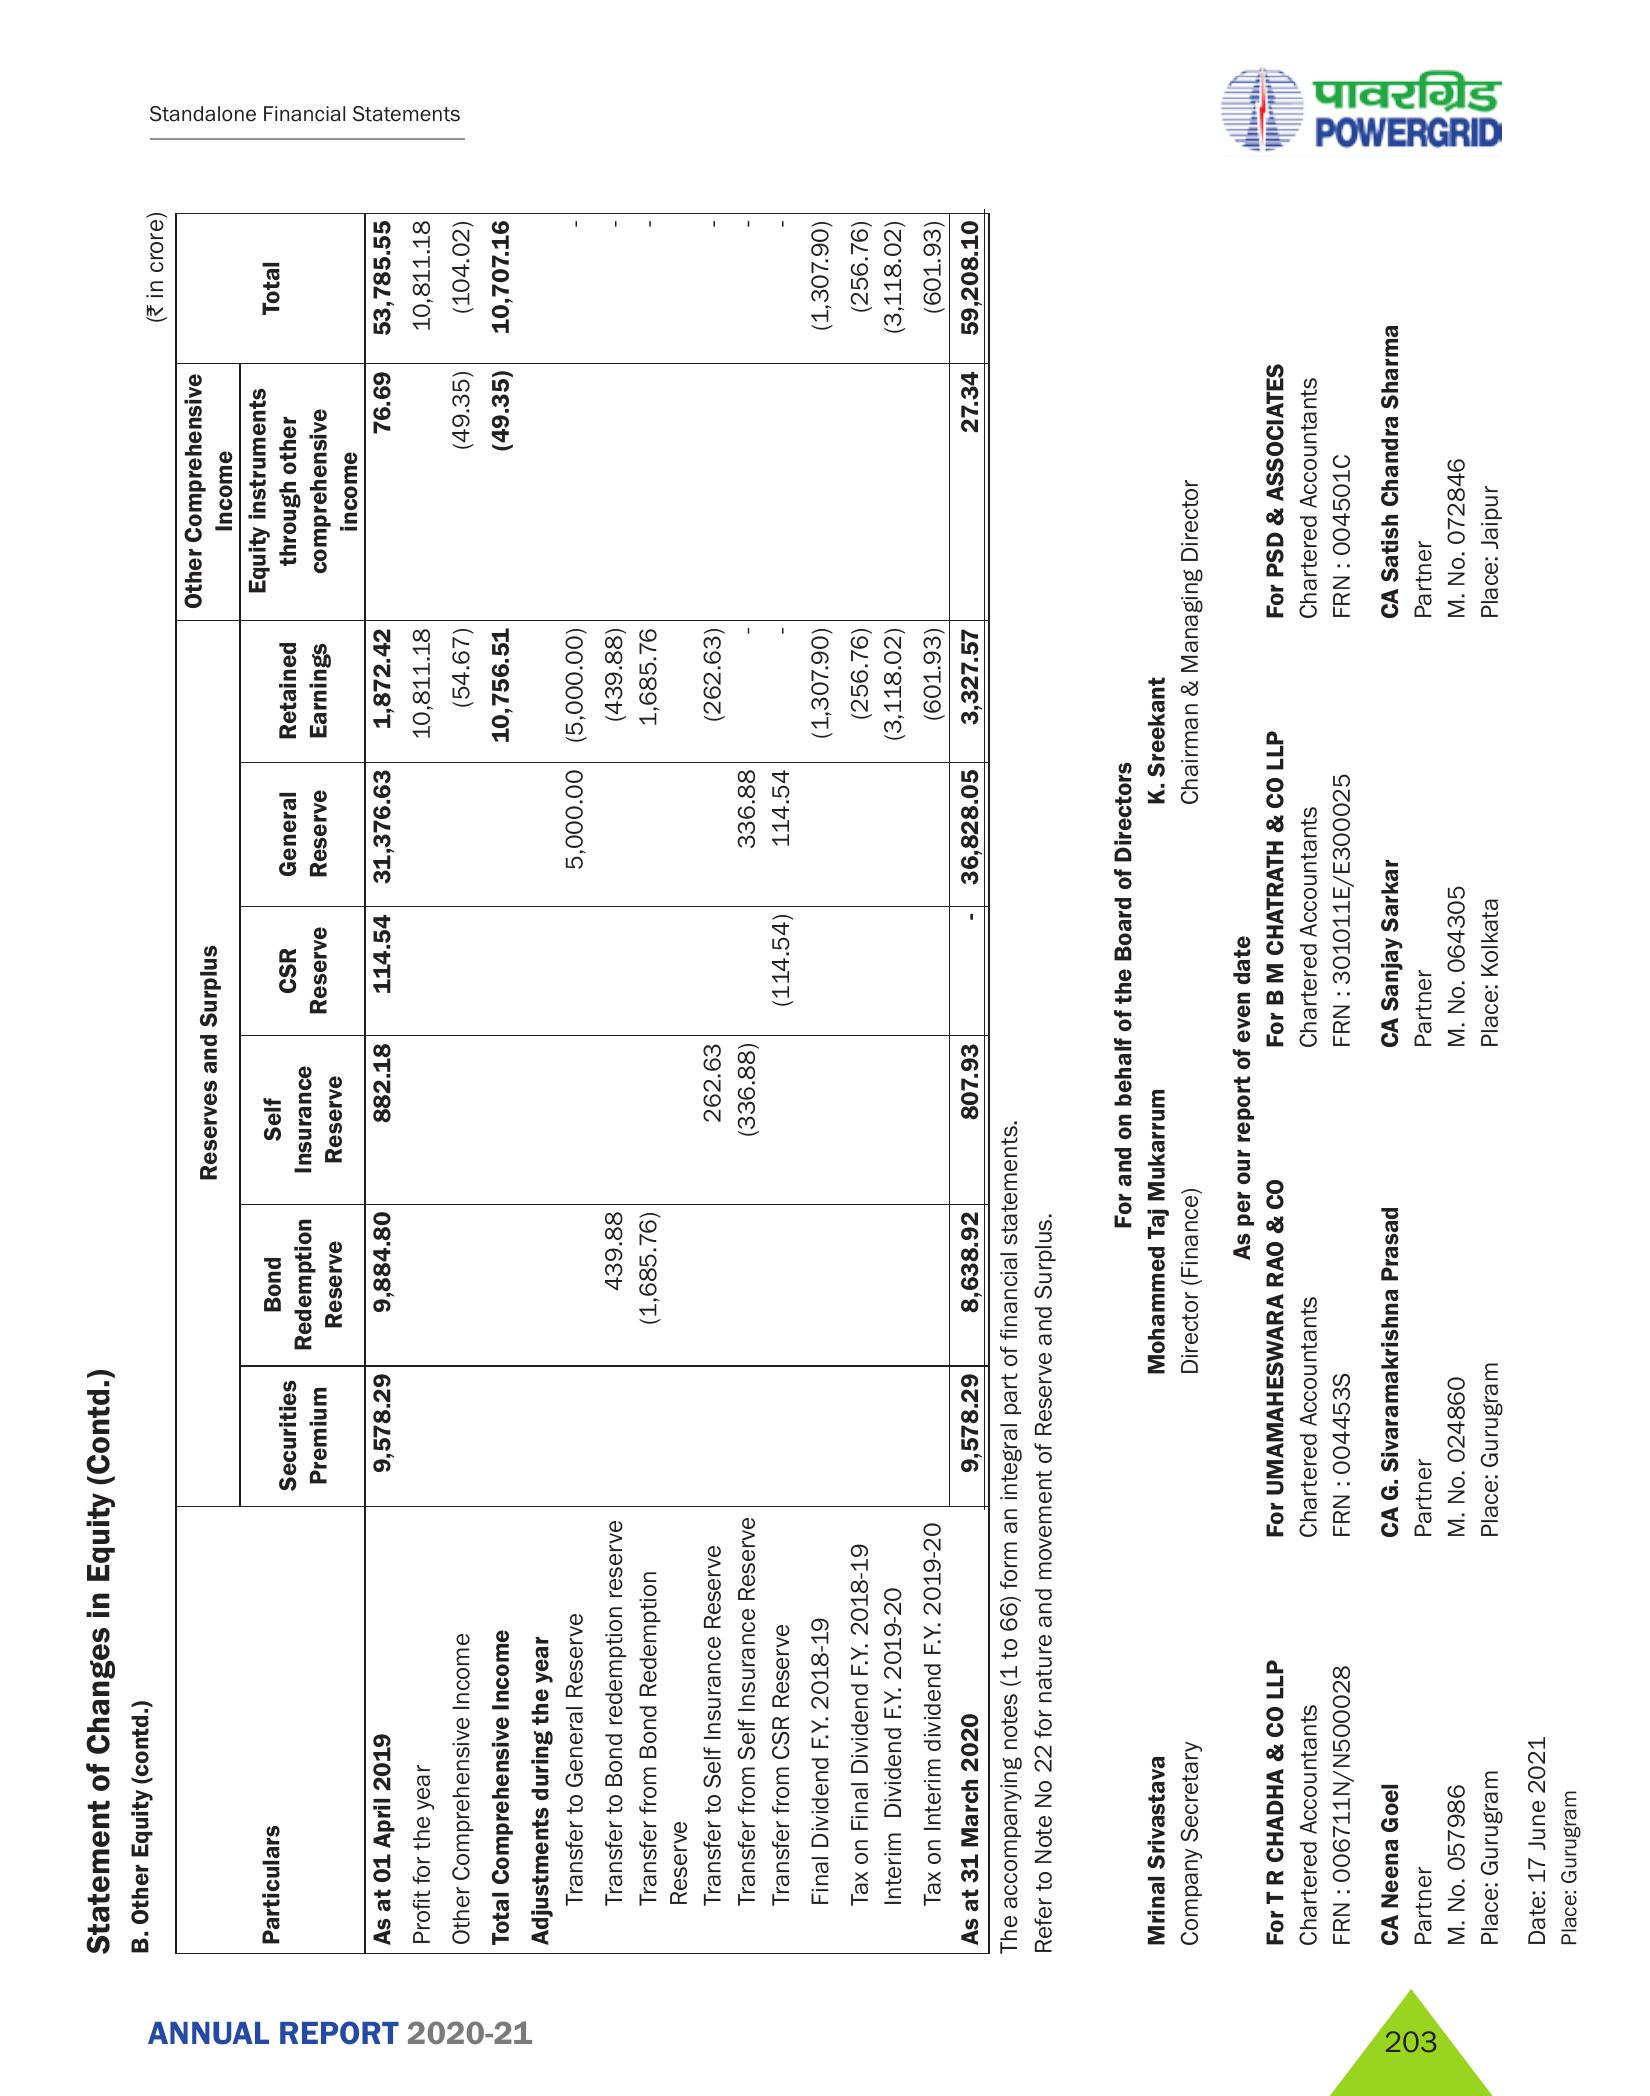Footer: (0, 1982, 1650, 2096)
Header: (0, 0, 1650, 163)
Table: (146, 192, 997, 1985)
